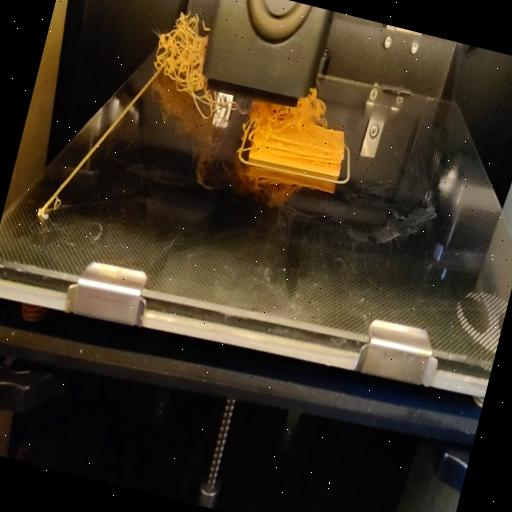spaghetti: (142, 3, 217, 105), (192, 78, 248, 126)
